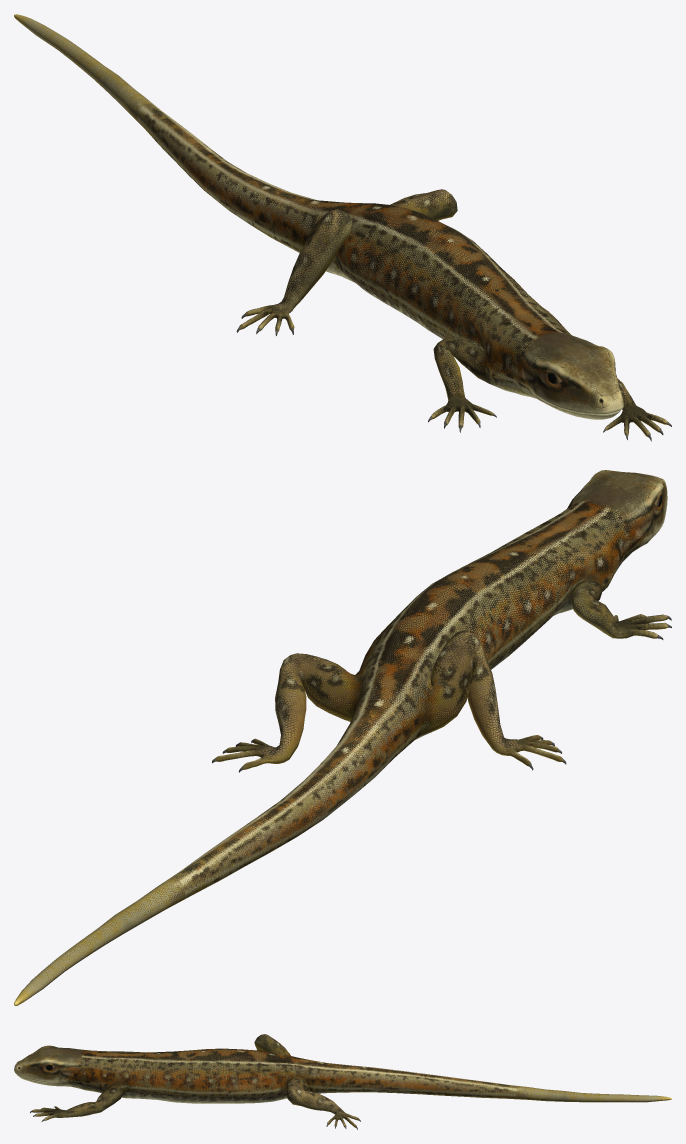
The model's file is Running101.obj.
3 renders of one model, top to bottom at view 1: azimuth 30°, elevation 25°; view 2: azimuth 150°, elevation 25°; view 3: azimuth 270°, elevation 25°, orthographic. The views are drawn at different scales.
Visible parts, largest first — view 1: Lizard; view 2: Lizard; view 3: Lizard.
Part boxes in pixels (x1,y1,x2,y2): Lizard: (14,14,671,441); Lizard: (14,470,671,1005); Lizard: (14,1034,671,1129).
Size of the model in its own units: 25.34 by 9.58 by 105.
